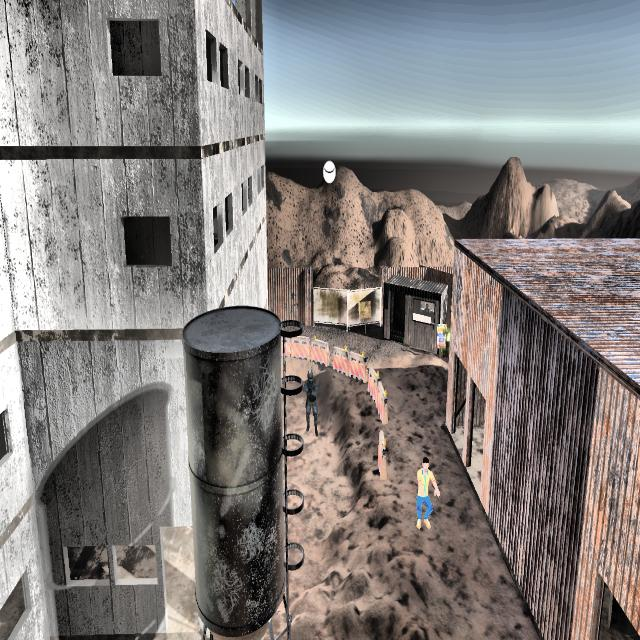bad: (302, 364, 322, 441)
good: (408, 451, 441, 546)
